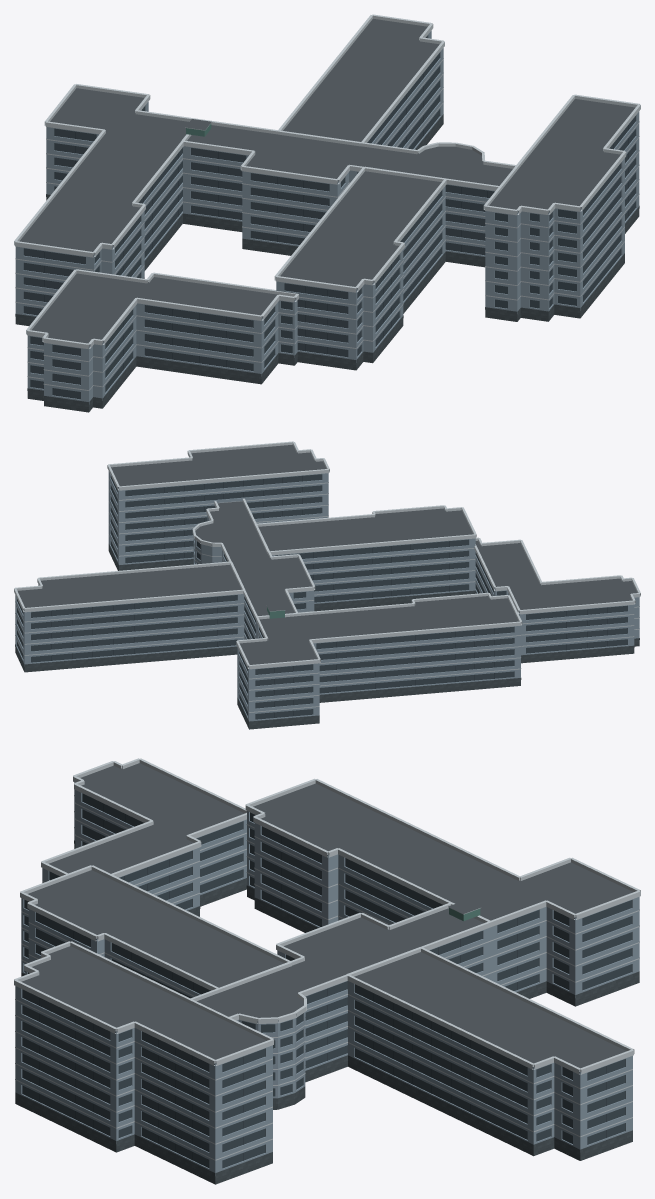
3 renders of one model, top to bottom at view 1: azimuth 30°, elevation 25°; view 2: azimuth 150°, elevation 25°; view 3: azimuth 270°, elevation 25°, orthographic. The views are drawn at different scales.
Parts seen in each view (by area): view 1: naturalSci__roof, naturalSci__wall, naturalSci__glass, naturalSci__trim, naturalSci__base, naturalSci__frame; view 2: naturalSci__roof, naturalSci__wall, naturalSci__glass, naturalSci__trim, naturalSci__base, naturalSci__frame; view 3: naturalSci__roof, naturalSci__wall, naturalSci__glass, naturalSci__trim, naturalSci__base, naturalSci__frame.
Boxes of the visible parts, x1,y1,x2,y2 form: naturalSci__roof: (19, 18, 635, 346); naturalSci__wall: (15, 30, 639, 404); naturalSci__glass: (23, 35, 635, 399); naturalSci__trim: (14, 14, 640, 390); naturalSci__base: (15, 114, 639, 412); naturalSci__frame: (44, 73, 628, 369); naturalSci__roof: (17, 444, 637, 667); naturalSci__wall: (15, 471, 639, 721); naturalSci__glass: (17, 474, 627, 719); naturalSci__trim: (14, 441, 640, 712); naturalSci__base: (15, 544, 639, 729); naturalSci__frame: (51, 476, 607, 717); naturalSci__roof: (21, 763, 633, 1072); naturalSci__wall: (15, 782, 639, 1175); naturalSci__glass: (22, 793, 631, 1168); naturalSci__trim: (14, 758, 640, 1160); naturalSci__base: (15, 840, 639, 1184); naturalSci__frame: (39, 804, 606, 1160).
Bounding box in the file's own units: 178 × 29.4 × 135.
7 materials, 1 textured.
